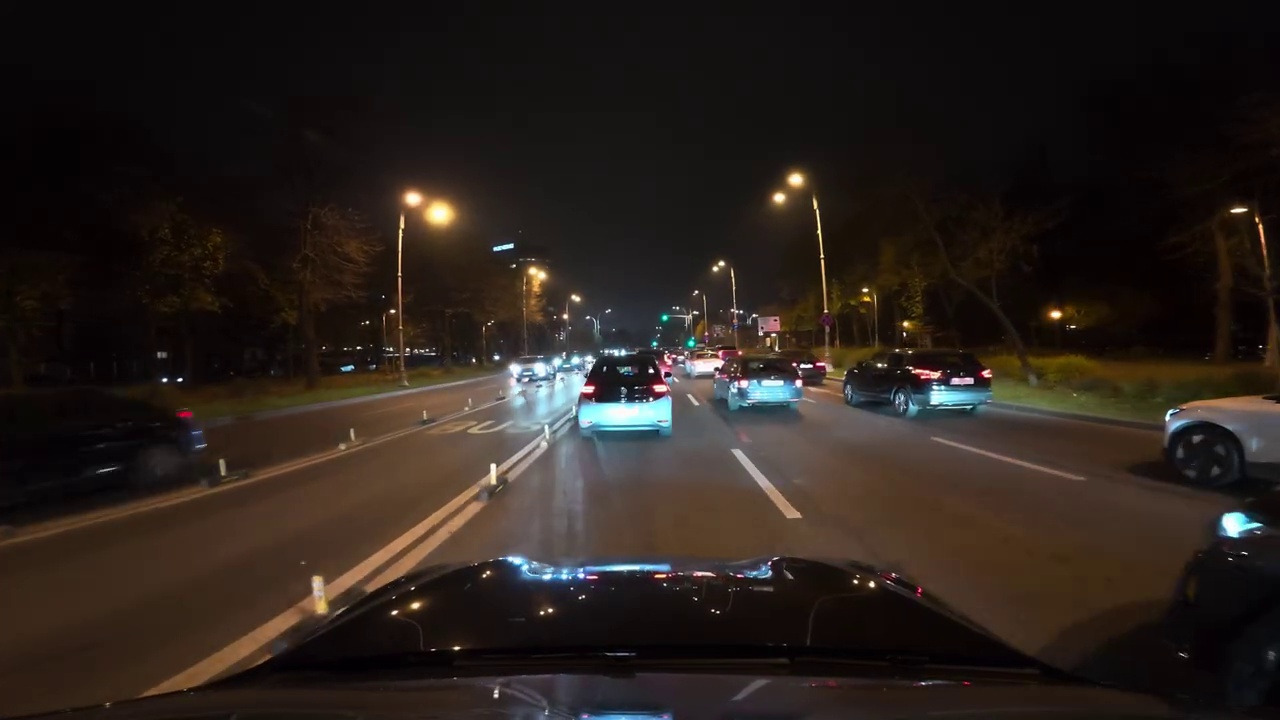acesa: (410, 196, 456, 230), (772, 167, 810, 207), (781, 169, 809, 195), (526, 266, 547, 291), (709, 258, 731, 279)
